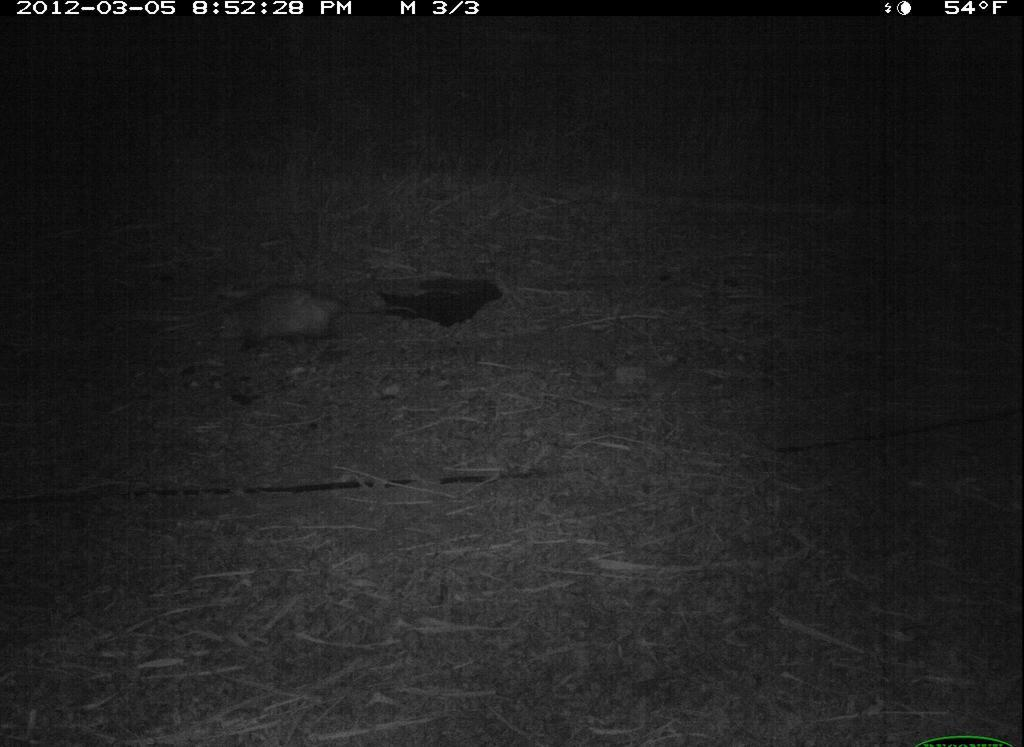opossum: (221, 282, 349, 361)
